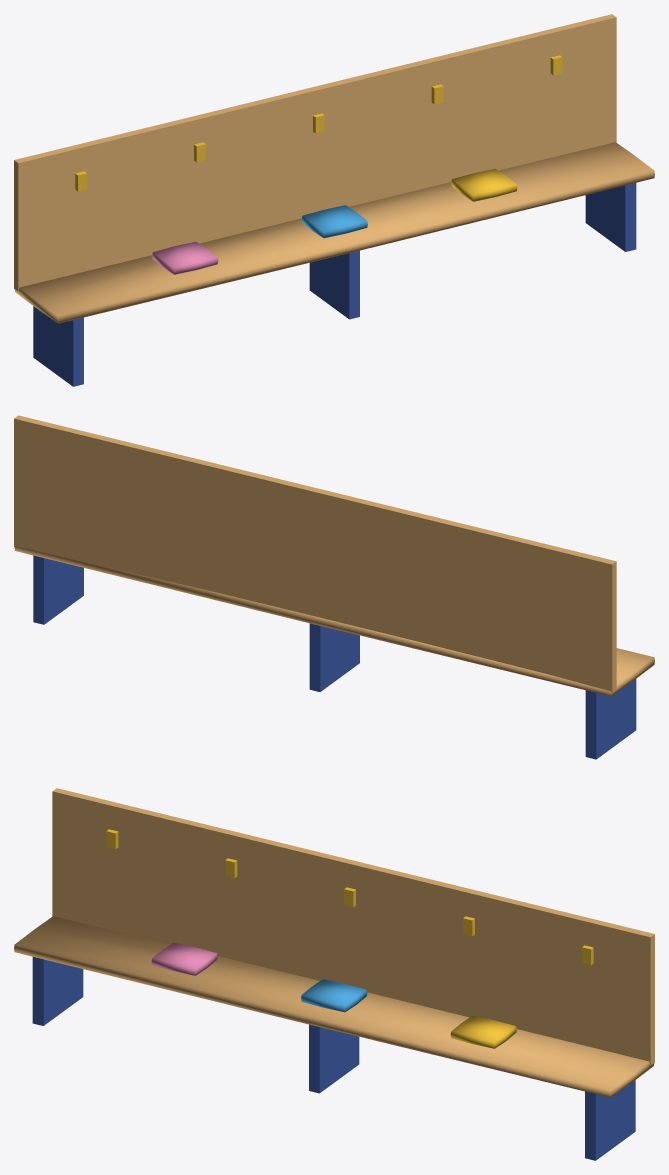
File: changing_bench.glb
3 renders of one model, top to bottom at view 1: azimuth 30°, elevation 25°; view 2: azimuth 150°, elevation 25°; view 3: azimuth 330°, elevation 25°, orthographic.
Parts seen in each view (by area): view 1: root; view 2: root; view 3: root.
Boxes of the visible parts, x1,y1,x2,y2 form: root: (14,14,654,386); root: (14,415,654,759); root: (14,788,654,1160).
Size of the model in its own units: 3.9 by 1.25 by 0.5.
